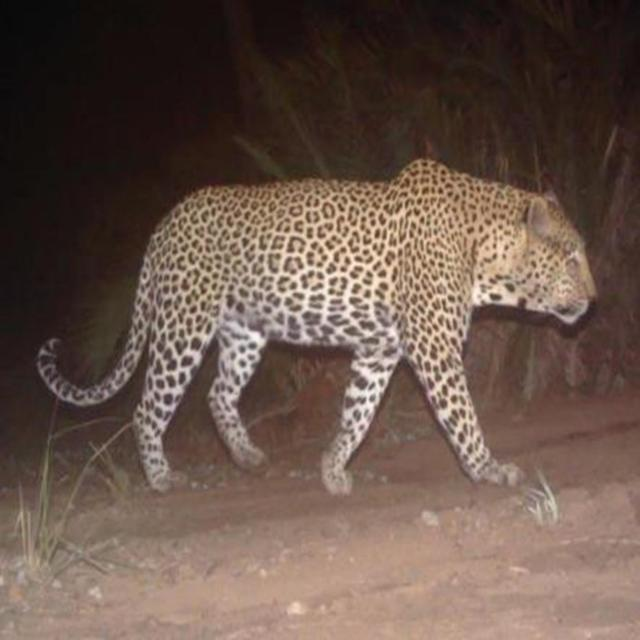Leopard: (36, 177, 595, 508)
